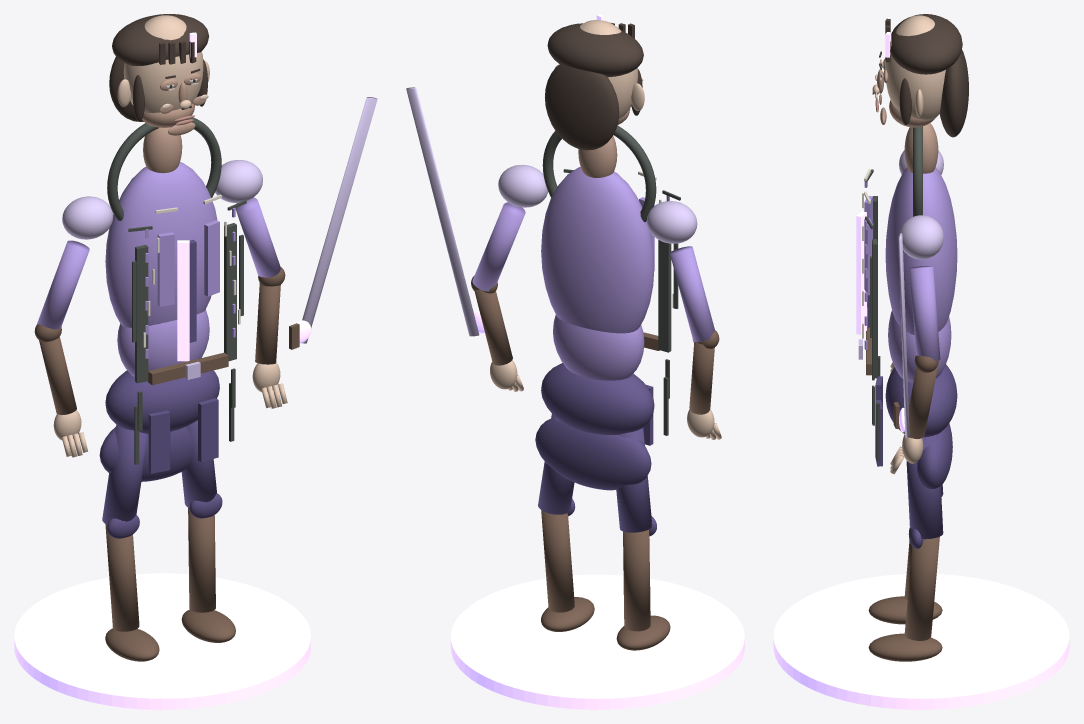
File: violet-duelist.glb
3 views of the same model, side by side, from view 1: azimuth 30°, elevation 25°; view 2: azimuth 150°, elevation 25°; view 3: azimuth 270°, elevation 25° (orthographic).
Visible parts, largest first — view 1: violet-duelist_table_scale_base, violet-duelist_ribcage, violet-duelist_pelvis, violet-duelist_head, violet-duelist_violet_blade, violet-duelist_left_thigh, violet-duelist_abdomen, violet-duelist_hair_cap, violet-duelist_right_shin, violet-duelist_left_shin, violet-duelist_left_upper_arm, violet-duelist_raised_collar (+23 smaller); view 2: violet-duelist_table_scale_base, violet-duelist_ribcage, violet-duelist_pelvis, violet-duelist_coat_tail, violet-duelist_back_hair_mass, violet-duelist_abdomen, violet-duelist_hair_cap, violet-duelist_violet_blade, violet-duelist_right_shin, violet-duelist_left_shin, violet-duelist_left_upper_arm, violet-duelist_right_upper_arm (+14 smaller); view 3: violet-duelist_table_scale_base, violet-duelist_ribcage, violet-duelist_hair_cap, violet-duelist_right_shin, violet-duelist_head, violet-duelist_right_upper_arm, violet-duelist_pelvis, violet-duelist_right_thigh, violet-duelist_back_hair_mass, violet-duelist_abdomen, violet-duelist_right_shoulder, violet-duelist_right_boot (+9 smaller).
Boxes of the visible parts, x1,y1,x2,y2 form: violet-duelist_table_scale_base: (14, 573, 310, 709); violet-duelist_ribcage: (105, 162, 217, 327); violet-duelist_pelvis: (105, 370, 219, 434); violet-duelist_head: (123, 15, 203, 112); violet-duelist_violet_blade: (301, 97, 377, 343); violet-duelist_left_thigh: (102, 424, 148, 524); violet-duelist_abdomen: (117, 309, 209, 376); violet-duelist_hair_cap: (112, 14, 208, 65); violet-duelist_right_shin: (188, 508, 215, 612); violet-duelist_left_shin: (105, 524, 139, 631); violet-duelist_left_upper_arm: (36, 240, 89, 329); violet-duelist_raised_collar: (107, 117, 221, 220); violet-duelist_table_scale_base: (450, 574, 744, 709); violet-duelist_ribcage: (541, 167, 654, 333); violet-duelist_pelvis: (541, 363, 654, 434); violet-duelist_coat_tail: (535, 418, 651, 490); violet-duelist_back_hair_mass: (545, 64, 619, 150); violet-duelist_abdomen: (553, 315, 644, 380); violet-duelist_hair_cap: (547, 23, 643, 77); violet-duelist_violet_blade: (406, 87, 479, 336); violet-duelist_right_shin: (541, 510, 574, 612); violet-duelist_left_shin: (623, 529, 650, 631); violet-duelist_left_upper_arm: (669, 246, 714, 342); violet-duelist_right_upper_arm: (472, 202, 525, 291); violet-duelist_table_scale_base: (773, 574, 1069, 709); violet-duelist_ribcage: (885, 167, 957, 334); violet-duelist_hair_cap: (890, 14, 962, 74); violet-duelist_right_shin: (904, 536, 939, 640); violet-duelist_head: (885, 15, 945, 119); violet-duelist_right_upper_arm: (909, 266, 940, 360); violet-duelist_pelvis: (885, 364, 957, 437); violet-duelist_right_thigh: (906, 434, 943, 539); violet-duelist_back_hair_mass: (939, 50, 968, 137); violet-duelist_abdomen: (888, 311, 951, 382); violet-duelist_right_shoulder: (899, 215, 943, 259); violet-duelist_right_boot: (868, 633, 942, 661).
Bounding box in the file's own units: 1.09 × 1.97 × 0.84.
